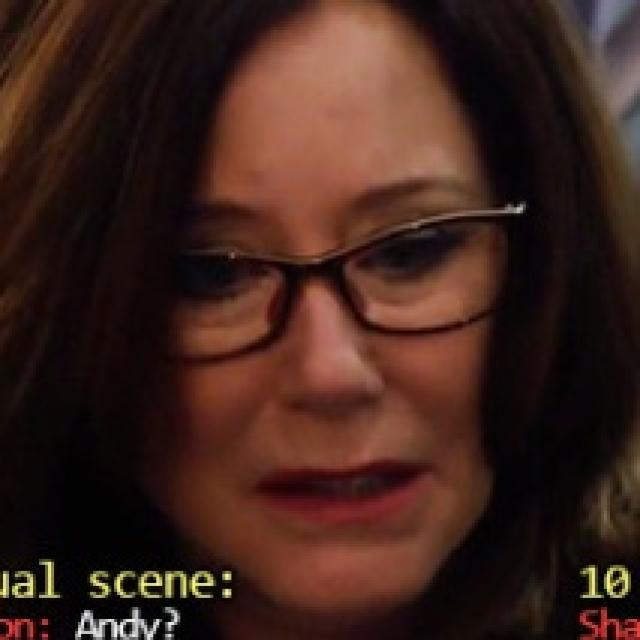Depress: (132, 0, 521, 614)
